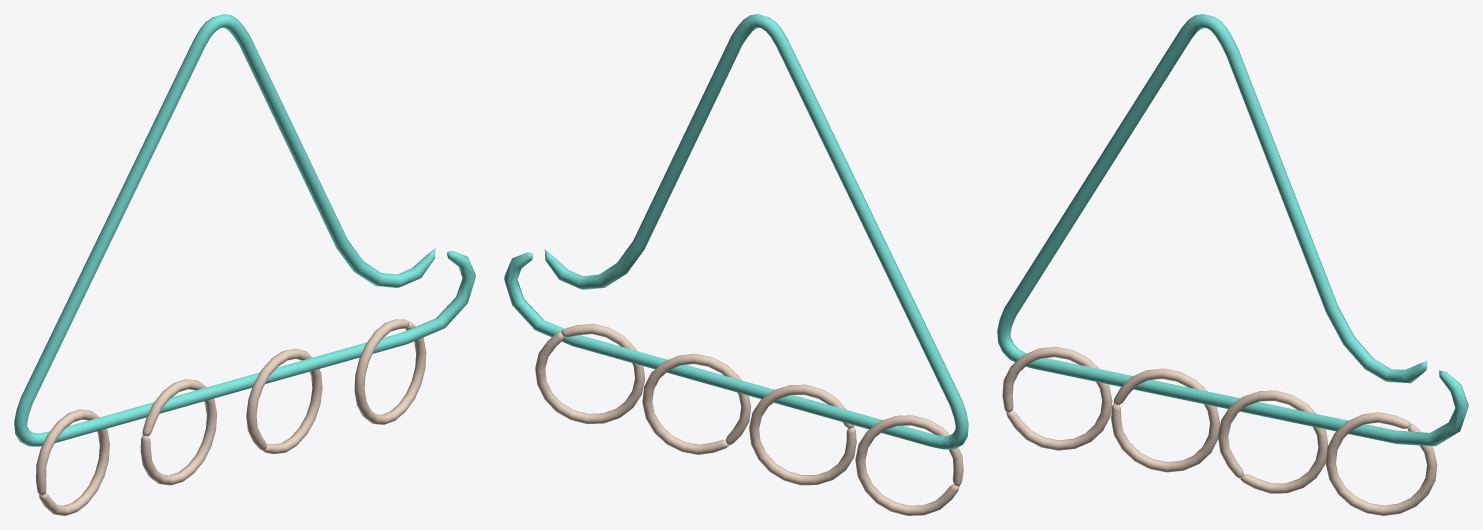
Rendered from uploads_files_1972987_Triangle_Decoration_FBX.fbx.
3 views of the same model, side by side, from view 1: azimuth 30°, elevation 25°; view 2: azimuth 150°, elevation 25°; view 3: azimuth 330°, elevation 25° (orthographic). The views are drawn at different scales.
Parts seen in each view (by area): view 1: rings1; view 2: rings1; view 3: rings1.
Part boxes in pixels (box(x1,y1,x2,y2)): rings1: box(14, 14, 475, 515); rings1: box(504, 14, 968, 515); rings1: box(997, 14, 1468, 515).
Bounding box in the file's own units: 30.76 × 29.43 × 2.79.
